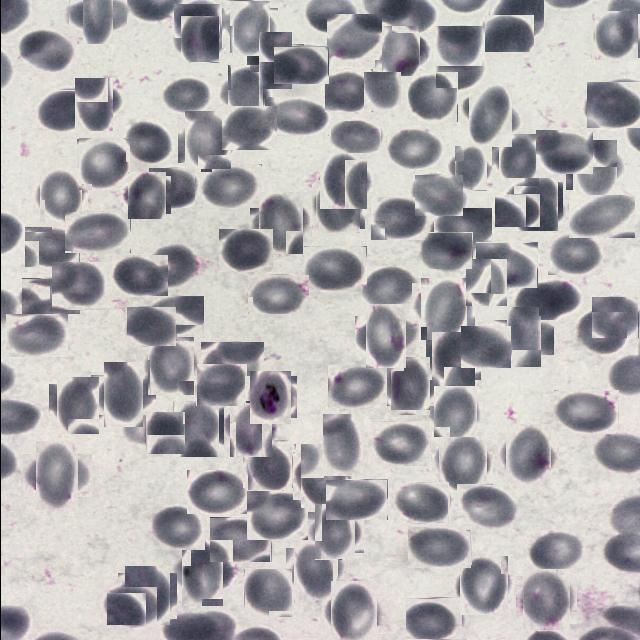red blood cell: (296, 448, 352, 504), (518, 572, 573, 628), (246, 491, 308, 540), (29, 448, 84, 503), (326, 584, 380, 640), (415, 282, 470, 336), (434, 434, 489, 488), (198, 342, 262, 388), (456, 558, 510, 612), (175, 546, 229, 600), (462, 88, 516, 142), (568, 196, 634, 240), (303, 246, 366, 292), (501, 428, 554, 482), (253, 197, 307, 250), (553, 390, 618, 434), (475, 242, 537, 288), (359, 310, 412, 363), (208, 517, 270, 562), (64, 211, 130, 253), (456, 484, 516, 530), (180, 114, 233, 166), (120, 570, 173, 622), (369, 421, 430, 466), (406, 526, 471, 568), (141, 242, 200, 288), (144, 340, 196, 392), (76, 138, 128, 190), (289, 544, 341, 596), (96, 369, 148, 421), (568, 142, 620, 194), (317, 156, 369, 208), (186, 470, 247, 514), (200, 164, 261, 208), (5, 314, 67, 357), (169, 403, 220, 455), (17, 28, 77, 72), (51, 262, 106, 310), (370, 196, 429, 240), (386, 126, 444, 170), (360, 265, 418, 309), (406, 72, 457, 122), (325, 479, 387, 520), (327, 365, 386, 408), (326, 14, 381, 60), (148, 505, 204, 550), (535, 130, 592, 174), (52, 380, 102, 430), (224, 404, 274, 454), (264, 97, 328, 136), (247, 274, 309, 314), (322, 414, 362, 476), (586, 82, 639, 128), (526, 530, 584, 572), (221, 106, 276, 150), (313, 182, 362, 231), (428, 334, 477, 383), (510, 180, 560, 228), (36, 170, 84, 220), (405, 598, 462, 640), (218, 230, 272, 274), (386, 362, 434, 411), (392, 482, 448, 524), (244, 568, 292, 617), (111, 255, 167, 297), (433, 208, 491, 248), (547, 233, 602, 275), (431, 387, 479, 435), (36, 90, 90, 132), (245, 442, 292, 490), (225, 5, 273, 52), (311, 508, 358, 556), (499, 314, 547, 361), (24, 226, 79, 267), (21, 278, 80, 314), (494, 137, 540, 183), (252, 38, 298, 84), (592, 13, 638, 59), (70, 81, 116, 127), (194, 364, 244, 406), (460, 326, 510, 368), (273, 46, 328, 84), (463, 260, 508, 306), (324, 69, 372, 112), (148, 296, 202, 334), (160, 76, 212, 115), (378, 28, 422, 74), (512, 282, 560, 324), (435, 46, 483, 88), (576, 312, 626, 352), (126, 306, 176, 346), (489, 0, 543, 37), (106, 586, 157, 625), (591, 296, 638, 338), (414, 175, 462, 216), (222, 70, 266, 114), (125, 121, 172, 162), (435, 26, 482, 66), (422, 232, 472, 269), (482, 15, 532, 52), (124, 174, 168, 216), (148, 168, 194, 208), (178, 18, 220, 60), (330, 120, 380, 154), (144, 412, 185, 453), (75, 0, 120, 37), (173, 3, 220, 38), (494, 193, 540, 227), (450, 149, 490, 187), (362, 72, 400, 110), (538, 282, 578, 316)
trophozoite: (246, 374, 293, 422)
